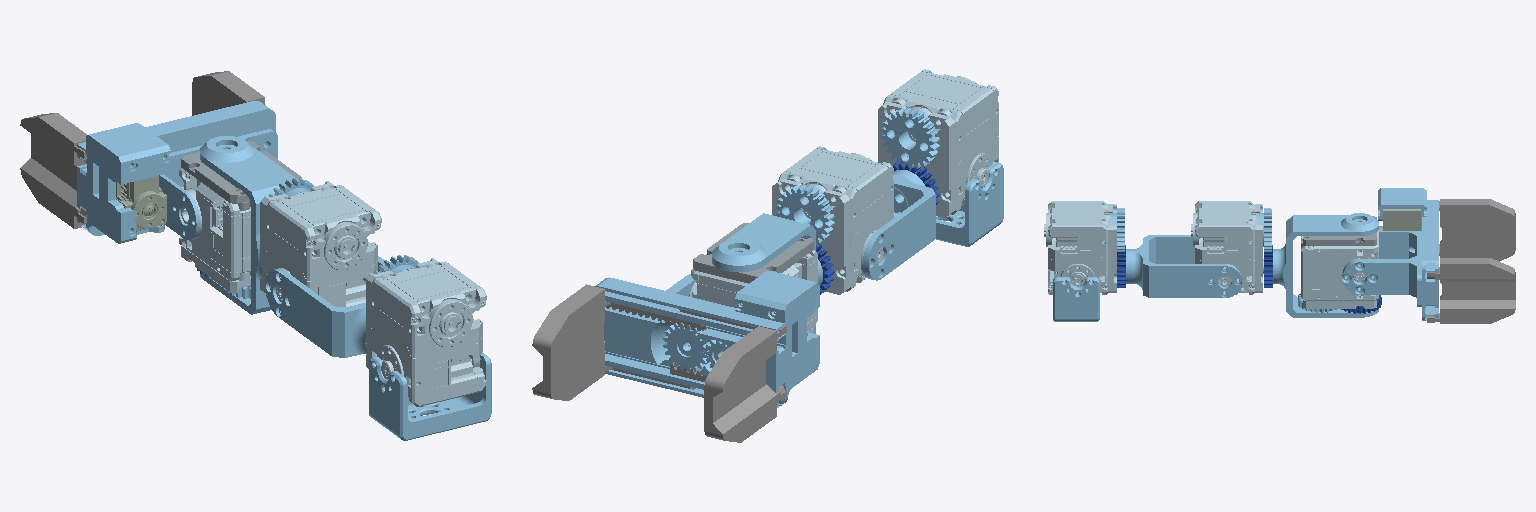
--- Render facts (derived) ---
3 views of the same robot in one strip: view 1: azimuth 30°, elevation 25°; view 2: azimuth 150°, elevation 25°; view 3: azimuth 270°, elevation 25° (orthographic).
Robot: left_arm_gripper — 19 links, 18 joints (10 revolute, 2 prismatic, 6 fixed); root link sho_pitch_link; default pose: every joint at zero.
Visible links, largest first — view 1: 2xl430_gears, 2xl430_gears_2, left_rail_guide, 2xl430_gears_3, sho_pitch_link, rail, elb_yaw_link, sho_yaw_link, gripper_connector, rail_2, xc330, wrist_bearing_plate; view 2: left_rail_guide, 2xl430_gears, 2xl430_gears_2, rail_2, rail, sho_yaw_link, elb_yaw_link, sho_pitch_link, spur_1m_24t_drive, 2xl430_gears_3, spur_1m_24t_drive_2, wrist_bearing_plate; view 3: 2xl430_gears, sho_yaw_link, 2xl430_gears_2, rail_2, rail, gripper_connector, 2xl430_gears_3, elb_yaw_link, left_rail_guide, sho_pitch_link, xc330, wrist_bearing_plate.
Boxes of the visible links, bbox=[...] form: 2xl430_gears: bbox=[366, 258, 486, 406]; 2xl430_gears_2: bbox=[260, 181, 381, 307]; left_rail_guide: bbox=[77, 101, 275, 243]; 2xl430_gears_3: bbox=[179, 168, 250, 292]; sho_pitch_link: bbox=[369, 352, 491, 440]; rail: bbox=[20, 113, 86, 228]; elb_yaw_link: bbox=[200, 136, 297, 314]; sho_yaw_link: bbox=[266, 256, 384, 357]; gripper_connector: bbox=[159, 129, 277, 239]; rail_2: bbox=[192, 71, 264, 115]; xc330: bbox=[116, 155, 166, 231]; wrist_bearing_plate: bbox=[181, 141, 301, 210]; left_rail_guide: bbox=[595, 270, 819, 407]; 2xl430_gears: bbox=[878, 69, 998, 217]; 2xl430_gears_2: bbox=[772, 146, 893, 294]; rail_2: bbox=[532, 284, 705, 400]; rail: bbox=[670, 309, 786, 442]; sho_yaw_link: bbox=[863, 170, 935, 280]; elb_yaw_link: bbox=[712, 213, 822, 333]; sho_pitch_link: bbox=[936, 162, 1003, 246]; spur_1m_24t_drive: bbox=[881, 107, 939, 168]; 2xl430_gears_3: bbox=[689, 250, 817, 333]; spur_1m_24t_drive_2: bbox=[776, 184, 834, 243]; wrist_bearing_plate: bbox=[693, 223, 813, 283]; 2xl430_gears: bbox=[1044, 201, 1116, 294]; sho_yaw_link: bbox=[1126, 235, 1241, 297]; 2xl430_gears_2: bbox=[1191, 201, 1263, 294]; rail_2: bbox=[1427, 258, 1515, 323]; rail: bbox=[1439, 199, 1515, 261]; gripper_connector: bbox=[1342, 231, 1421, 306]; 2xl430_gears_3: bbox=[1301, 230, 1378, 308]; elb_yaw_link: bbox=[1273, 213, 1378, 317]; left_rail_guide: bbox=[1378, 188, 1438, 320]; sho_pitch_link: bbox=[1053, 277, 1099, 321]; xc330: bbox=[1379, 209, 1420, 230]; wrist_bearing_plate: bbox=[1301, 216, 1376, 247].
Size in the robot's own frame: 0.0917 by 0.281 by 0.0652 metres.
Meshes: 19 distinct files referenced, 19 mesh visuals loaded (19 binary STL).

The robot description file, URDF, robot "left_arm_gripper":
<?xml version="1.0" ?><robot name="left_arm_gripper">  
  <link name="sho_pitch_link">    
    <visual>      
      <origin xyz="0 0 0" rpy="0 -0 0"/>      
      <geometry>        
        <mesh filename="package:///meshes/left_sho_pitch_link_visual.stl"/>        
      </geometry>      
      <material name="sho_pitch_link_material">        
        <color rgba="0.61568627450980395466 0.81176470588235294379 0.92941176470588227065 1.0"/>        
      </material>      
    </visual>    
    <collision>      
      <origin xyz="0 0 0" rpy="0 -0 0"/>      
      <geometry>        
        <mesh filename="package:///meshes/left_sho_pitch_link_collision.stl"/>        
      </geometry>      
    </collision>    
    <inertial>      
      <origin xyz="5.825424713136965347e-11 -5.1264642561120613376e-05 0.0082440788127094623977" rpy="0 0 0"/>      
      <mass value="0.0085999999999999948014"/>      
      <inertia ixx="1.2272887040545698699e-06" ixy="-2.1429936857790001706e-14" ixz="-8.5847197986376549961e-15" iyy="2.9107306060364399859e-06" iyz="7.4623841398182289916e-09" izz="3.0803135950773254758e-06"/>      
    </inertial>    
  </link>  

  <link name="2xl430_gears">    
    <visual>      
      <origin xyz="0 0 0" rpy="0 -0 0"/>      
      <geometry>        
        <mesh filename="package:///meshes/left_2xl430_gears_visual.stl"/>        
      </geometry>      
      <material name="2xl430_gears_material">        
        <color rgba="0.75605985687944110563 0.85804695962693022793 0.91320266199377464478 1.0"/>        
      </material>      
    </visual>    
    <collision>      
      <origin xyz="0 0 0" rpy="0 -0 0"/>      
      <geometry>        
        <mesh filename="package:///meshes/left_2xl430_gears_collision.stl"/>        
      </geometry>      
    </collision>    
    <inertial>      
      <origin xyz="-0.011579403981038464272 -0.002422576614141830776 -0.018551095523803202286" rpy="0 0 0"/>      
      <mass value="0.11800003674524908726"/>      
      <inertia ixx="2.7482298083237826736e-05" ixy="9.2729623432995268073e-07" ixz="-2.2634512003660714742e-08" iyy="3.2770742486673136743e-05" iyz="-6.570834602012557258e-07" izz="3.5767957544056393486e-05"/>      
    </inertial>    
  </link>  

  <link name="spur_1m_24t_drive">    
    <visual>      
      <origin xyz="0 0 0" rpy="0 -0 0"/>      
      <geometry>        
        <mesh filename="package:///meshes/left_spur_1m_24t_drive_visual.stl"/>        
      </geometry>      
      <material name="spur_1m_24t_drive_material">        
        <color rgba="0.61568627450980406568 0.81176470588235294379 0.92941176470588238168 1.0"/>        
      </material>      
    </visual>    
    <collision>      
      <origin xyz="0 0 0" rpy="0 -0 0"/>      
      <geometry>        
        <mesh filename="package:///meshes/left_spur_1m_24t_drive_collision.stl"/>        
      </geometry>      
    </collision>    
    <inertial>      
      <origin xyz="-7.7448063662474734586e-15 -1.2123861050677117534e-16 0.0047949116178401460231" rpy="0 0 0"/>      
      <mass value="0.0032000000000000001533"/>      
      <inertia ixx="1.4019331346159890349e-07" ixy="1.6002409975938109088e-15" ixz="2.8305938916428361434e-36" iyy="1.4019331260388791479e-07" iyz="-2.7756084137331137677e-37" izz="2.3838919844264060647e-07"/>      
    </inertial>    
  </link>  

  <joint name="left_sho_yaw_drive" type="revolute">    
    <origin xyz="-0.024000000716142340373 -0.019000000152452619501 -0.019000000152446860219" rpy="1.5707963267949109909 9.9706267968386760623e-14 1.1369019472068143296e-13"/>    
    <parent link="2xl430_gears"/>    
    <child link="spur_1m_24t_drive"/>    
    <axis xyz="0 0 1"/>    
    <limit effort="1" velocity="20" lower="-1.570796326794896558" upper="1.570796326794896558"/>    
    <joint_properties friction="0.0"/>    
  </joint>  

  <link name="spur_1m_24t_driven">    
    <visual>      
      <origin xyz="0 0 0" rpy="0 -0 0"/>      
      <geometry>        
        <mesh filename="package:///meshes/left_spur_1m_24t_driven_visual.stl"/>        
      </geometry>      
      <material name="spur_1m_24t_driven_material">        
        <color rgba="0.23137254901960788156 0.38039215686274502337 0.7058823529411765163 1.0"/>        
      </material>      
    </visual>    
    <collision>      
      <origin xyz="0 0 0" rpy="0 -0 0"/>      
      <geometry>        
        <mesh filename="package:///meshes/left_spur_1m_24t_driven_collision.stl"/>        
      </geometry>      
    </collision>    
    <inertial>      
      <origin xyz="2.4762432785984072638e-18 -5.8048491945228596449e-15 -0.00097054817521927832808" rpy="0 0 0"/>      
      <mass value="0.0026999999999999997093"/>      
      <inertia ixx="1.2036234079571063062e-07" ixy="5.3408894128739695801e-38" ixz="5.1968416708483298415e-37" iyy="1.203623407957104718e-07" iyz="2.9528026526682685694e-38" izz="2.2847261745924530022e-07"/>      
    </inertial>    
  </link>  

  <link name="sho_yaw_link">    
    <visual>      
      <origin xyz="0 0 0" rpy="0 -0 0"/>      
      <geometry>        
        <mesh filename="package:///meshes/left_sho_yaw_link_visual.stl"/>        
      </geometry>      
      <material name="sho_yaw_link_material">        
        <color rgba="0.61568627450980395466 0.81176470588235294379 0.92941176470588238168 1.0"/>        
      </material>      
    </visual>    
    <collision>      
      <origin xyz="0 0 0" rpy="0 -0 0"/>      
      <geometry>        
        <mesh filename="package:///meshes/left_sho_yaw_link_collision.stl"/>        
      </geometry>      
    </collision>    
    <inertial>      
      <origin xyz="-1.2817564279972674955e-18 1.5206593873888553284e-18 -0.024303257848520158635" rpy="0 0 0"/>      
      <mass value="0.014500000000000009409"/>      
      <inertia ixx="9.0846670053041348901e-06" ixy="3.6224092806459835683e-13" ixz="-1.3956049305714063063e-36" iyy="5.6910950712097508087e-06" iyz="7.9431974261832515669e-37" izz="4.4819609845548975929e-06"/>      
    </inertial>    
  </link>  

  <link name="2xl430_gears_2">    
    <visual>      
      <origin xyz="0 0 0" rpy="0 -0 0"/>      
      <geometry>        
        <mesh filename="package:///meshes/left_2xl430_gears_2_visual.stl"/>        
      </geometry>      
      <material name="2xl430_gears_2_material">        
        <color rgba="0.75605985687944110563 0.85804695962693022793 0.91320266199377464478 1.0"/>        
      </material>      
    </visual>    
    <collision>      
      <origin xyz="0 0 0" rpy="0 -0 0"/>      
      <geometry>        
        <mesh filename="package:///meshes/left_2xl430_gears_2_collision.stl"/>        
      </geometry>      
    </collision>    
    <inertial>      
      <origin xyz="-0.011579403981032826421 -0.0024225766141465132283 -0.018551095523802692278" rpy="0 0 0"/>      
      <mass value="0.11800003674524908726"/>      
      <inertia ixx="2.748229808324030346e-05" ixy="9.2729623433146018762e-07" ixz="-2.263451200429400091e-08" iyy="3.277074248667314352e-05" iyz="-6.5708346020031763681e-07" izz="3.5767957544059822276e-05"/>      
    </inertial>    
  </link>  

  <link name="spur_1m_24t_drive_2">    
    <visual>      
      <origin xyz="0 0 0" rpy="0 -0 0"/>      
      <geometry>        
        <mesh filename="package:///meshes/left_spur_1m_24t_drive_2_visual.stl"/>        
      </geometry>      
      <material name="spur_1m_24t_drive_2_material">        
        <color rgba="0.61568627450980406568 0.81176470588235294379 0.92941176470588238168 1.0"/>        
      </material>      
    </visual>    
    <collision>      
      <origin xyz="0 0 0" rpy="0 -0 0"/>      
      <geometry>        
        <mesh filename="package:///meshes/left_spur_1m_24t_drive_2_collision.stl"/>        
      </geometry>      
    </collision>    
    <inertial>      
      <origin xyz="-7.751745260151380687e-15 -1.2123861048092158399e-16 0.0047949116178401520946" rpy="0 0 0"/>      
      <mass value="0.0032000000000000001533"/>      
      <inertia ixx="1.4019331346159885055e-07" ixy="1.6002409988709471321e-15" ixz="-3.502605987210856533e-36" iyy="1.4019331260388786185e-07" iyz="9.4026470327642496469e-37" izz="2.3838919844264060647e-07"/>      
    </inertial>    
  </link>  

  <joint name="left_elbow_yaw_drive" type="revolute">    
    <origin xyz="-0.024000000716136535989 -0.019000000152454787905 -0.019000000152441284818" rpy="1.5707963267946079 -2.8216931162767297778e-14 6.7112934369983557895e-14"/>    
    <parent link="2xl430_gears_2"/>    
    <child link="spur_1m_24t_drive_2"/>    
    <axis xyz="0 0 1"/>    
    <limit effort="1" velocity="20" lower="-1.570796326794896558" upper="1.570796326794896558"/>    
    <joint_properties friction="0.0"/>    
  </joint>  

  <link name="spur_1m_24t_driven_2">    
    <visual>      
      <origin xyz="0 0 0" rpy="0 -0 0"/>      
      <geometry>        
        <mesh filename="package:///meshes/left_spur_1m_24t_driven_2_visual.stl"/>        
      </geometry>      
      <material name="spur_1m_24t_driven_2_material">        
        <color rgba="0.23137254901960788156 0.38039215686274502337 0.7058823529411765163 1.0"/>        
      </material>      
    </visual>    
    <collision>      
      <origin xyz="0 0 0" rpy="0 -0 0"/>      
      <geometry>        
        <mesh filename="package:///meshes/left_spur_1m_24t_driven_2_collision.stl"/>        
      </geometry>      
    </collision>    
    <inertial>      
      <origin xyz="2.4762432785983259896e-18 -5.8048491945228580672e-15 -0.00097054817521927117235" rpy="0 0 0"/>      
      <mass value="0.0026999999999999997093"/>      
      <inertia ixx="1.2036234079571063062e-07" ixy="-5.9343215704243974963e-39" ixz="-5.7094682119075744182e-37" iyy="1.203623407957104718e-07" iyz="2.8781323114403286985e-36" izz="2.2847261745924530022e-07"/>      
    </inertial>    
  </link>  

  <link name="elb_yaw_link">    
    <visual>      
      <origin xyz="0 0 0" rpy="0 -0 0"/>      
      <geometry>        
        <mesh filename="package:///meshes/left_elb_yaw_link_visual.stl"/>        
      </geometry>      
      <material name="elb_yaw_link_material">        
        <color rgba="0.61568627450980395466 0.81176470588235294379 0.92941176470588238168 1.0"/>        
      </material>      
    </visual>    
    <collision>      
      <origin xyz="0 0 0" rpy="0 -0 0"/>      
      <geometry>        
        <mesh filename="package:///meshes/left_elb_yaw_link_collision.stl"/>        
      </geometry>      
    </collision>    
    <inertial>      
      <origin xyz="5.3127688027570469941e-08 0.0019833638641961657233 -0.023416643551549931601" rpy="0 0 0"/>      
      <mass value="0.017500000000000012074"/>      
      <inertia ixx="1.4134344903109203164e-05" ixy="1.6945783921965302898e-12" ixz="-1.12863987218649646e-11" iyy="6.6435900776211348874e-06" iyz="1.0545227077253063932e-06" izz="8.9925290757999027595e-06"/>      
    </inertial>    
  </link>  

  <link name="spur_1m_24t_driven_3">    
    <visual>      
      <origin xyz="0 0 0" rpy="0 -0 0"/>      
      <geometry>        
        <mesh filename="package:///meshes/left_spur_1m_24t_driven_3_visual.stl"/>        
      </geometry>      
      <material name="spur_1m_24t_driven_3_material">        
        <color rgba="0.23137254901960788156 0.38039215686274502337 0.7058823529411765163 1.0"/>        
      </material>      
    </visual>    
    <collision>      
      <origin xyz="0 0 0" rpy="0 -0 0"/>      
      <geometry>        
        <mesh filename="package:///meshes/left_spur_1m_24t_driven_3_collision.stl"/>        
      </geometry>      
    </collision>    
    <inertial>      
      <origin xyz="2.4762432785984296046e-18 -5.8048491945228509674e-15 -0.0025705481752192754774" rpy="0 0 0"/>      
      <mass value="0.0026999999999999997093"/>      
      <inertia ixx="1.2036234079571063062e-07" ixy="2.9658603783104118495e-36" ixz="1.4418649266169135506e-36" iyy="1.203623407957104718e-07" iyz="0" izz="2.2847261745924530022e-07"/>      
    </inertial>    
  </link>  

  <link name="2xl430_gears_3">    
    <visual>      
      <origin xyz="0 0 0" rpy="0 -0 0"/>      
      <geometry>        
        <mesh filename="package:///meshes/left_2xl430_gears_3_visual.stl"/>        
      </geometry>      
      <material name="2xl430_gears_3_material">        
        <color rgba="0.75605985687944110563 0.85804695962693022793 0.91320266199377464478 1.0"/>        
      </material>      
    </visual>    
    <collision>      
      <origin xyz="0 0 0" rpy="0 -0 0"/>      
      <geometry>        
        <mesh filename="package:///meshes/left_2xl430_gears_3_collision.stl"/>        
      </geometry>      
    </collision>    
    <inertial>      
      <origin xyz="0.00044890447620223944891 0.011579403622960069212 -0.024577423538311701789" rpy="0 0 0"/>      
      <mass value="0.11800003674524908726"/>      
      <inertia ixx="3.576795754405341193e-05" ixy="2.2634512003722922033e-08" ixz="6.5708346020262643687e-07" iyy="2.748229808323645793e-05" iyz="9.2729623432839615181e-07" izz="3.2770742486672282934e-05"/>      
    </inertial>    
  </link>  

  <link name="spur_1m_24t_drive_3">    
    <visual>      
      <origin xyz="0 0 0" rpy="0 -0 0"/>      
      <geometry>        
        <mesh filename="package:///meshes/left_spur_1m_24t_drive_3_visual.stl"/>        
      </geometry>      
      <material name="spur_1m_24t_drive_3_material">        
        <color rgba="0.61568627450980406568 0.81176470588235294379 0.92941176470588238168 1.0"/>        
      </material>      
    </visual>    
    <collision>      
      <origin xyz="0 0 0" rpy="0 -0 0"/>      
      <geometry>        
        <mesh filename="package:///meshes/left_spur_1m_24t_drive_3_collision.stl"/>        
      </geometry>      
    </collision>    
    <inertial>      
      <origin xyz="-7.751745260151380687e-15 -1.2123861050677117534e-16 0.004794911617840143421" rpy="0 0 0"/>      
      <mass value="0.0032000000000000001533"/>      
      <inertia ixx="1.4019331346159890349e-07" ixy="1.6002410034001928083e-15" ixz="-8.7717508276537431555e-37" iyy="1.4019331260388783538e-07" iyz="1.1548227992196316113e-37" izz="2.3838919844264060647e-07"/>      
    </inertial>    
  </link>  

  <joint name="left_wrist_pitch_drive" type="revolute">    
    <origin xyz="-1.5244182510102145428e-10 0.024000000358063572348 -0.0080000000000052026022" rpy="3.8158623046065463386e-14 2.7687786355305660007e-15 -1.5707963267948872321"/>    
    <parent link="2xl430_gears_3"/>    
    <child link="spur_1m_24t_drive_3"/>    
    <axis xyz="0 0 1"/>    
    <limit effort="1" velocity="20" lower="-1.570796326794896558" upper="1.570796326794896558"/>    
    <joint_properties friction="0.0"/>    
  </joint>  

  <link name="gripper_connector">    
    <visual>      
      <origin xyz="0 0 0" rpy="0 -0 0"/>      
      <geometry>        
        <mesh filename="package:///meshes/left_gripper_connector_visual.stl"/>        
      </geometry>      
      <material name="gripper_connector_material">        
        <color rgba="0.61568627450980395466 0.81176470588235294379 0.92941176470588238168 1.0"/>        
      </material>      
    </visual>    
    <collision>      
      <origin xyz="0 0 0" rpy="0 -0 0"/>      
      <geometry>        
        <mesh filename="package:///meshes/left_gripper_connector_collision.stl"/>        
      </geometry>      
    </collision>    
    <inertial>      
      <origin xyz="-0.00020299682521053750918 0.023971521766976106732 0.0085969861498480255185" rpy="0 0 0"/>      
      <mass value="0.0099999999999999967387"/>      
      <inertia ixx="5.3001475666257306027e-06" ixy="2.3401437868255138619e-08" ixz="4.811583299767818531e-08" iyy="3.8245954467071441652e-06" iyz="1.9316561248438263276e-08" izz="2.2623415168893606272e-06"/>      
    </inertial>    
  </link>  

  <link name="left_rail_guide">    
    <visual>      
      <origin xyz="0 0 0" rpy="0 -0 0"/>      
      <geometry>        
        <mesh filename="package:///meshes/left_rail_guide_visual.stl"/>        
      </geometry>      
      <material name="left_rail_guide_material">        
        <color rgba="0.61996873695689813655 0.81385103374119360797 0.93007060508235828156 1.0"/>        
      </material>      
    </visual>    
    <collision>      
      <origin xyz="0 0 0" rpy="0 -0 0"/>      
      <geometry>        
        <mesh filename="package:///meshes/left_rail_guide_collision.stl"/>        
      </geometry>      
    </collision>    
    <inertial>      
      <origin xyz="0.0092700665834928308584 0.0022613527845001648101 6.7965382068776956643e-05" rpy="0 0 0"/>      
      <mass value="0.032142035224833366558"/>      
      <inertia ixx="7.5992490868921725935e-06" ixy="2.166186217073429695e-06" ixz="4.0652418928980958842e-06" iyy="2.7370569943527405134e-05" iyz="-9.4757783140872249955e-07" izz="3.0022397080929709613e-05"/>      
    </inertial>    
  </link>  

  <link name="rail">    
    <visual>      
      <origin xyz="0 0 0" rpy="0 -0 0"/>      
      <geometry>        
        <mesh filename="package:///meshes/left_rail_visual.stl"/>        
      </geometry>      
      <material name="rail_material">        
        <color rgba="0.64705882352941179736 0.64705882352941179736 0.64705882352941179736 1.0"/>        
      </material>      
    </visual>    
    <collision>      
      <origin xyz="0 0 0" rpy="0 -0 0"/>      
      <geometry>        
        <mesh filename="package:///meshes/left_rail_collision.stl"/>        
      </geometry>      
    </collision>    
    <inertial>      
      <origin xyz="0.022744777800883849567 -0.01423343940335741048 -0.0079907133176532266217" rpy="0 0 0"/>      
      <mass value="0.01189999999999999912"/>      
      <inertia ixx="2.9161025366903515529e-06" ixy="4.4570835808164656273e-09" ixz="-7.5225164550604629609e-07" iyy="3.6201306422454496648e-06" iyz="2.6765050785959795044e-08" izz="4.4681807873990699658e-06"/>      
    </inertial>    
  </link>  

  <joint name="left_gripper_pinion_1" type="prismatic">    
    <origin xyz="-0.028872599999999967041 -0.014174999999999993161 -0.0053500000000000214051" rpy="3.141592653589793116 1.5707963267948954478 0"/>    
    <parent link="left_rail_guide"/>    
    <child link="rail"/>    
    <axis xyz="0 0 1"/>    
    <limit effort="1" velocity="20" lower="-0.036872599999999998432" upper="0"/>    
    <joint_properties friction="0.0"/>    
  </joint>  

  <link name="rail_2">    
    <visual>      
      <origin xyz="0 0 0" rpy="0 -0 0"/>      
      <geometry>        
        <mesh filename="package:///meshes/left_rail_2_visual.stl"/>        
      </geometry>      
      <material name="rail_2_material">        
        <color rgba="0.64705882352941179736 0.64705882352941179736 0.64705882352941179736 1.0"/>        
      </material>      
    </visual>    
    <collision>      
      <origin xyz="0 0 0" rpy="0 -0 0"/>      
      <geometry>        
        <mesh filename="package:///meshes/left_rail_2_collision.stl"/>        
      </geometry>      
    </collision>    
    <inertial>      
      <origin xyz="0.022744777800883849567 -0.01423343940335741048 -0.0079907133176532543772" rpy="0 0 0"/>      
      <mass value="0.01189999999999999912"/>      
      <inertia ixx="2.9161025366903515529e-06" ixy="4.4570835808164656273e-09" ixz="-7.5225164550604629609e-07" iyy="3.6201306422454496648e-06" iyz="2.6765050785959795044e-08" izz="4.4681807873990699658e-06"/>      
    </inertial>    
  </link>  

  <joint name="left_gripper_pinion_2" type="prismatic">    
    <origin xyz="0.062872600000000083975 0.014174999999999993161 -0.0053499999999999936495" rpy="-1.1102230241485031157e-16 1.5707963267948956698 0"/>    
    <parent link="left_rail_guide"/>    
    <child link="rail_2"/>    
    <axis xyz="0 0 1"/>    
    <limit effort="1" velocity="20" lower="-0.036872599999999998432" upper="0"/>    
    <joint_properties friction="0.0"/>    
  </joint>  

  <link name="xc330">    
    <visual>      
      <origin xyz="0 0 0" rpy="0 -0 0"/>      
      <geometry>        
        <mesh filename="package:///meshes/left_xc330_visual.stl"/>        
      </geometry>      
      <material name="xc330_material">        
        <color rgba="0.66932535752643762539 0.72911795671409951325 0.67547870389434383487 1.0"/>        
      </material>      
    </visual>    
    <collision>      
      <origin xyz="0 0 0" rpy="0 -0 0"/>      
      <geometry>        
        <mesh filename="package:///meshes/left_xc330_collision.stl"/>        
      </geometry>      
    </collision>    
    <inertial>      
      <origin xyz="0.0080045171539641236241 -0.015558009851636250484 -0.011717805512819029837" rpy="0 0 0"/>      
      <mass value="0.026599999993091760775"/>      
      <inertia ixx="3.8683410666515347562e-06" ixy="-7.7688424002015278384e-10" ixz="5.7969695836396948678e-10" iyy="2.1626767907496152011e-06" iyz="8.3590274789491991479e-09" izz="3.3158761130056310206e-06"/>      
    </inertial>    
  </link>  

  <link name="spur_gear_(14_teeth)">    
    <visual>      
      <origin xyz="0 0 0" rpy="0 -0 0"/>      
      <geometry>        
        <mesh filename="package:///meshes/left_spur_gear_(14_teeth)_visual.stl"/>        
      </geometry>      
      <material name="spur_gear_(14_teeth)_material">        
        <color rgba="0.91764705882352926025 0.91764705882352926025 0.91764705882352926025 1.0"/>        
      </material>      
    </visual>    
    <collision>      
      <origin xyz="0 0 0" rpy="0 -0 0"/>      
      <geometry>        
        <mesh filename="package:///meshes/left_spur_gear_(14_teeth)_collision.stl"/>        
      </geometry>      
    </collision>    
    <inertial>      
      <origin xyz="5.0520117100133488108e-09 -3.0586955572509122447e-09 -0.006903728708833461146" rpy="0 0 0"/>      
      <mass value="0.0013000000000000001572"/>      
      <inertia ixx="2.6445547365951358714e-08" ixy="2.5401821979637465349e-10" ixz="1.9678356781400301005e-14" iyy="2.6850679146645044261e-08" iyz="-1.1914086608124239553e-14" izz="3.4027434623053054292e-08"/>      
    </inertial>    
  </link>  

  <joint name="left_gripper_rack" type="revolute">    
    <origin xyz="0.0079999999999998683275 -0.022500000000001255107 -0.020000000000000905942" rpy="6.855915668332168754e-16 -2.3037346225485797513e-16 -3.7700408238277826924e-17"/>    
    <parent link="xc330"/>    
    <child link="spur_gear_(14_teeth)"/>    
    <axis xyz="0 0 1"/>    
    <limit effort="1" velocity="20" lower="0" upper="5.2359877559829888227"/>    
    <joint_properties friction="0.0"/>    
  </joint>  

  <joint name="left_gripper_motor" type="fixed">    
    <origin xyz="-0.021950000000000007699 0.022600000000000002032 0.023299999999999987388" rpy="7.2164496600760899834e-16 -8.5692192681739838362e-31 9.3430423746336819555e-31"/>    
    <parent link="left_rail_guide"/>    
    <child link="xc330"/>    
    <axis xyz="0 0 1"/>    
    <limit effort="1" velocity="20"/>    
    <joint_properties friction="0.0"/>    
  </joint>  

  <joint name="left_gripper_fixed" type="fixed">    
    <origin xyz="3.4694469519536141888e-18 0.037000000000000005107 0.036000000000000004219" rpy="1.5707963267948954478 1.570796326794896558 0"/>    
    <parent link="gripper_connector"/>    
    <child link="left_rail_guide"/>    
    <axis xyz="0 0 1"/>    
    <limit effort="1" velocity="20"/>    
    <joint_properties friction="0.0"/>    
  </joint>  

  <joint name="left_wrist_roll" type="revolute">    
    <origin xyz="0.019000000000008565593 -3.5807690146327786351e-10 -0.027000000152451481689" rpy="3.1415926535897225058 1.5707963267948779063 0"/>    
    <parent link="2xl430_gears_3"/>    
    <child link="gripper_connector"/>    
    <axis xyz="0 0 1"/>    
    <limit effort="1" velocity="20" lower="-1.570796326794896558" upper="1.570796326794896558"/>    
    <joint_properties friction="0.0"/>    
  </joint>  

  <link name="wrist_bearing_plate">    
    <visual>      
      <origin xyz="0 0 0" rpy="0 -0 0"/>      
      <geometry>        
        <mesh filename="package:///meshes/left_wrist_bearing_plate_visual.stl"/>        
      </geometry>      
      <material name="wrist_bearing_plate_material">        
        <color rgba="0.64496316278892629192 0.69011804996940528945 0.71706771073555886087 1.0"/>        
      </material>      
    </visual>    
    <collision>      
      <origin xyz="0 0 0" rpy="0 -0 0"/>      
      <geometry>        
        <mesh filename="package:///meshes/left_wrist_bearing_plate_collision.stl"/>        
      </geometry>      
    </collision>    
    <inertial>      
      <origin xyz="-0.0075835583121499792678 -0.015499999999999982542 -0.0018386323705903483226" rpy="0 0 0"/>      
      <mass value="0.0049000367468305548388"/>      
      <inertia ixx="4.9707430109150065605e-07" ixy="-2.8714724666942291057e-22" ixz="1.8100904820814273476e-08" iyy="7.1268523603538563647e-07" iyz="7.8617990471106424172e-24" izz="1.1919657811600102881e-06"/>      
    </inertial>    
  </link>  

  <joint name="left_wrist_pitch_fixed" type="fixed">    
    <origin xyz="0.01550000000000705154 -7.0499162063697440317e-15 -0.045000000000003488598" rpy="2.3314683517158803644e-14 -2.7339241981393896051e-14 -1.5707963267949085484"/>    
    <parent link="2xl430_gears_3"/>    
    <child link="wrist_bearing_plate"/>    
    <axis xyz="0 0 1"/>    
    <limit effort="1" velocity="20"/>    
    <joint_properties friction="0.0"/>    
  </joint>  

  <joint name="left_wrist_pitch_driven" type="revolute">    
    <origin xyz="-2.7755575615628913511e-17 0 -0.0015999999999999972577" rpy="2.4980018055243628788e-16 -1.6081226490223879062e-16 -1.570796326794896558"/>    
    <parent link="spur_1m_24t_driven_3"/>    
    <child link="2xl430_gears_3"/>    
    <axis xyz="0 0 1"/>    
    <limit effort="1" velocity="20" lower="-1.570796326794896558" upper="1.570796326794896558"/>    
    <joint_properties friction="0.0"/>    
  </joint>  

  <joint name="left_wrist_roll_fixed" type="fixed">    
    <origin xyz="-6.3108872417680944433e-30 -0.025299999999999996103 -0.051999999999999976796" rpy="1.570796326794896558 -1.5707963267948958919 0"/>    
    <parent link="elb_yaw_link"/>    
    <child link="spur_1m_24t_driven_3"/>    
    <axis xyz="0 0 1"/>    
    <limit effort="1" velocity="20"/>    
    <joint_properties friction="0.0"/>    
  </joint>  

  <joint name="left_elbow_yaw_fixed" type="fixed">    
    <origin xyz="0 6.3108872417680944433e-30 0.0015999999999999903189" rpy="3.1415926535897926719 3.0894028578356351099e-29 -1.570796326794896558"/>    
    <parent link="spur_1m_24t_driven_2"/>    
    <child link="elb_yaw_link"/>    
    <axis xyz="0 0 1"/>    
    <limit effort="1" velocity="20"/>    
    <joint_properties friction="0.0"/>    
  </joint>  

  <joint name="left_elbow_yaw_driven" type="revolute">    
    <origin xyz="-3.5806391879278365309e-10 -0.027000000152454087243 -0.01899999999999553088" rpy="1.5707963267946445374 -1.957357187373244284e-14 -5.6726675369617376296e-14"/>    
    <parent link="2xl430_gears_2"/>    
    <child link="spur_1m_24t_driven_2"/>    
    <axis xyz="0 0 1"/>    
    <limit effort="1" velocity="20" lower="-1.570796326794896558" upper="1.570796326794896558"/>    
    <joint_properties friction="0.0"/>    
  </joint>  

  <joint name="left_elbow_roll" type="revolute">    
    <origin xyz="0 -0.019000000000000002998 -0.058999999999999989952" rpy="1.570796326794896558 -5.9921797729386389252e-15 -1.6081226496441365173e-16"/>    
    <parent link="sho_yaw_link"/>    
    <child link="2xl430_gears_2"/>    
    <axis xyz="0 0 1"/>    
    <limit effort="1" velocity="20" lower="-1.570796326794896558" upper="1.570796326794896558"/>    
    <joint_properties friction="0.0"/>    
  </joint>  

  <joint name="left_sho_yaw_fixed" type="fixed">    
    <origin xyz="0 0 0.0016000000000000007272" rpy="-3.141592653589793116 4.050196108650232498e-16 6.2450045046961790355e-17"/>    
    <parent link="spur_1m_24t_driven"/>    
    <child link="sho_yaw_link"/>    
    <axis xyz="0 0 1"/>    
    <limit effort="1" velocity="20"/>    
    <joint_properties friction="0.0"/>    
  </joint>  

  <joint name="left_sho_yaw_driven" type="revolute">    
    <origin xyz="-3.5806818968198150799e-10 -0.027000000152451984758 -0.01900000000000318795" rpy="1.5707963267948918951 5.5868781814391237904e-14 7.1004483613505400622e-14"/>    
    <parent link="2xl430_gears"/>    
    <child link="spur_1m_24t_driven"/>    
    <axis xyz="0 0 1"/>    
    <limit effort="1" velocity="20" lower="-1.570796326794896558" upper="1.570796326794896558"/>    
    <joint_properties friction="0.0"/>    
  </joint>  

  <joint name="left_sho_roll" type="revolute">    
    <origin xyz="-0.018999999999999937078 0.00099999999999997031368 0.02699999999999990602" rpy="3.1415926535897913396 1.5707963267948676922 0"/>    
    <parent link="sho_pitch_link"/>    
    <child link="2xl430_gears"/>    
    <axis xyz="0 0 1"/>    
    <limit effort="1" velocity="20" lower="-1.570796326794896558" upper="0"/>    
    <joint_properties friction="0.0"/>    
  </joint>  


</robot>
